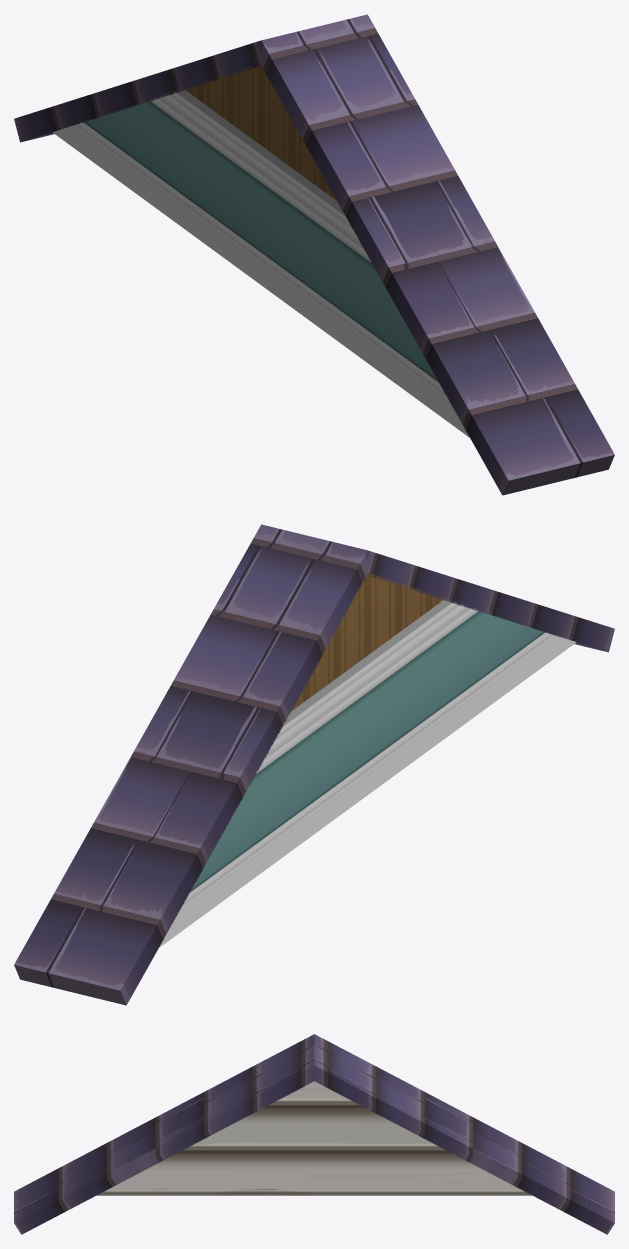
File: roof01_3m_endR_A.fbx
3 views of the same model, one above another, from view 1: azimuth 30°, elevation 25°; view 2: azimuth 150°, elevation 25°; view 3: azimuth 270°, elevation 25° (orthographic). The views are drawn at different scales.
Parts seen in each view (by area): view 1: roof01_3m_endR_A; view 2: roof01_3m_endR_A; view 3: roof01_3m_endR_A.
Boxes of the visible parts, x1,y1,x2,y2 form: roof01_3m_endR_A: (14,14,614,495); roof01_3m_endR_A: (14,524,614,1005); roof01_3m_endR_A: (14,1034,614,1234).
Size of the model in its own units: 50 by 125 by 403.
